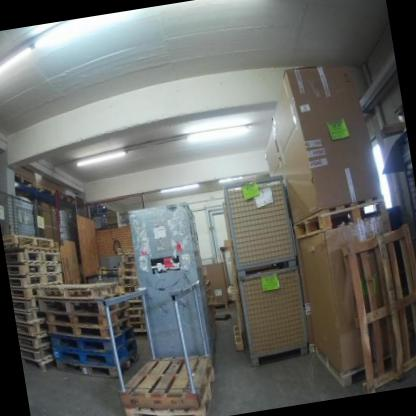pallet: (335, 221, 416, 394), (114, 350, 221, 416), (313, 327, 408, 393), (117, 364, 225, 416), (290, 192, 390, 242), (216, 238, 250, 356), (48, 320, 137, 364), (37, 283, 131, 324), (46, 308, 134, 349), (52, 333, 139, 372), (45, 297, 132, 336), (56, 348, 142, 387), (36, 273, 121, 308), (5, 243, 62, 271), (2, 228, 56, 257), (8, 266, 63, 291), (7, 257, 61, 281), (21, 351, 57, 375), (17, 327, 53, 351), (20, 339, 54, 363), (16, 316, 49, 339), (14, 304, 48, 325), (13, 294, 40, 314), (11, 284, 39, 301), (127, 304, 147, 319), (120, 281, 143, 294), (129, 320, 148, 335), (127, 313, 147, 327), (117, 266, 140, 278), (118, 259, 138, 271), (120, 274, 139, 286), (128, 298, 145, 310), (121, 252, 136, 265), (123, 245, 134, 254)
stillage: (222, 174, 298, 277), (237, 266, 313, 368)
